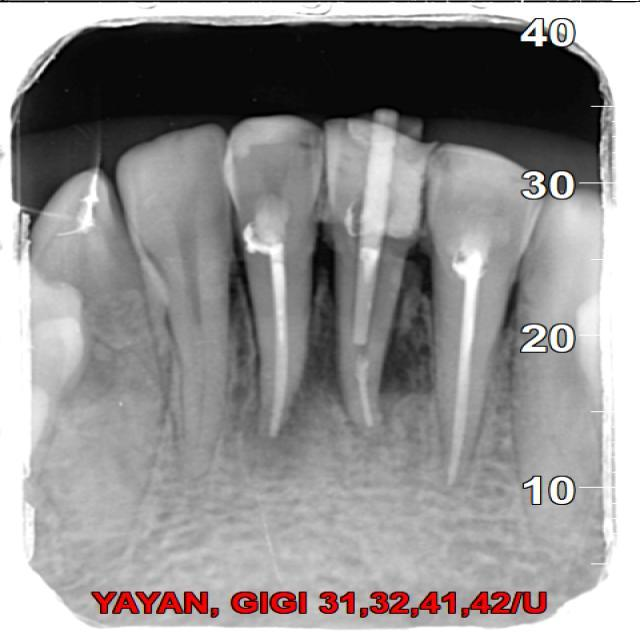individual-tooth-8tto: (422, 139, 553, 493), (124, 121, 242, 470), (222, 108, 325, 441), (328, 119, 429, 441)
